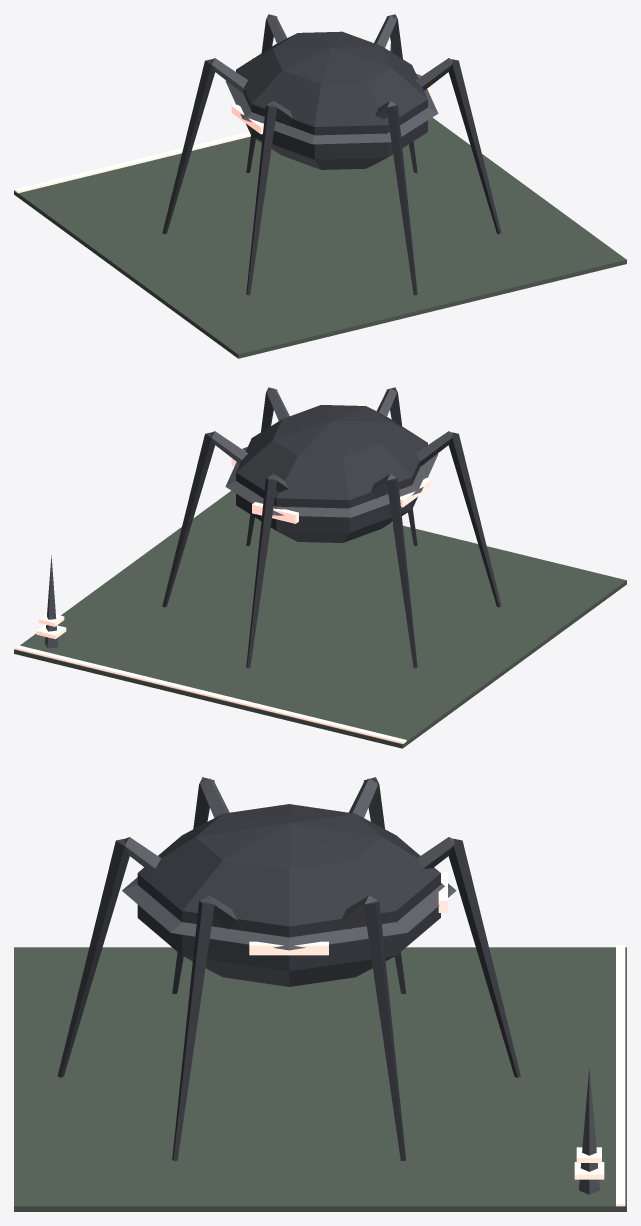
The model's file is zone_low_2_t2.glb.
The picture shows the model from 3 angles, top to bottom: view 1: azimuth 30°, elevation 25°; view 2: azimuth 150°, elevation 25°; view 3: azimuth 270°, elevation 25°; orthographic projection. The views are drawn at different scales.
Parts seen in each view (by area): view 1: zone_low_2_t2, detail; view 2: zone_low_2_t2, detail; view 3: zone_low_2_t2, detail.
Part boxes in pixels (left/top/right/bottom): zone_low_2_t2: left=14, top=14, right=626, bottom=358; detail: left=14, top=43, right=431, bottom=193; zone_low_2_t2: left=14, top=387, right=626, bottom=748; detail: left=14, top=449, right=431, bottom=743; zone_low_2_t2: left=14, top=777, right=626, bottom=1211; detail: left=249, top=941, right=625, bottom=1206.
Bounding box in the file's own units: 19.6 × 9.14 × 19.6.
